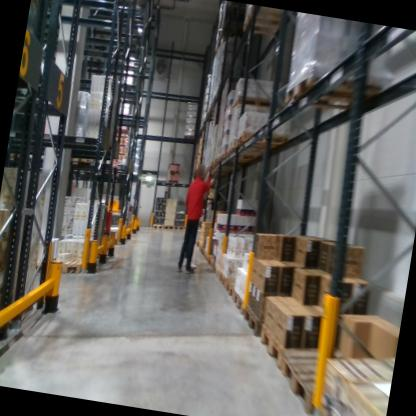pallet: (255, 305, 367, 389), (274, 333, 360, 416), (281, 65, 381, 130), (235, 5, 292, 43), (234, 123, 291, 157), (49, 249, 95, 282), (223, 271, 260, 307), (312, 392, 365, 416), (230, 91, 274, 118), (242, 303, 265, 344), (229, 290, 250, 317), (216, 271, 228, 291), (213, 261, 223, 279), (162, 220, 176, 232), (173, 222, 185, 232), (150, 221, 163, 230), (208, 258, 217, 269)
